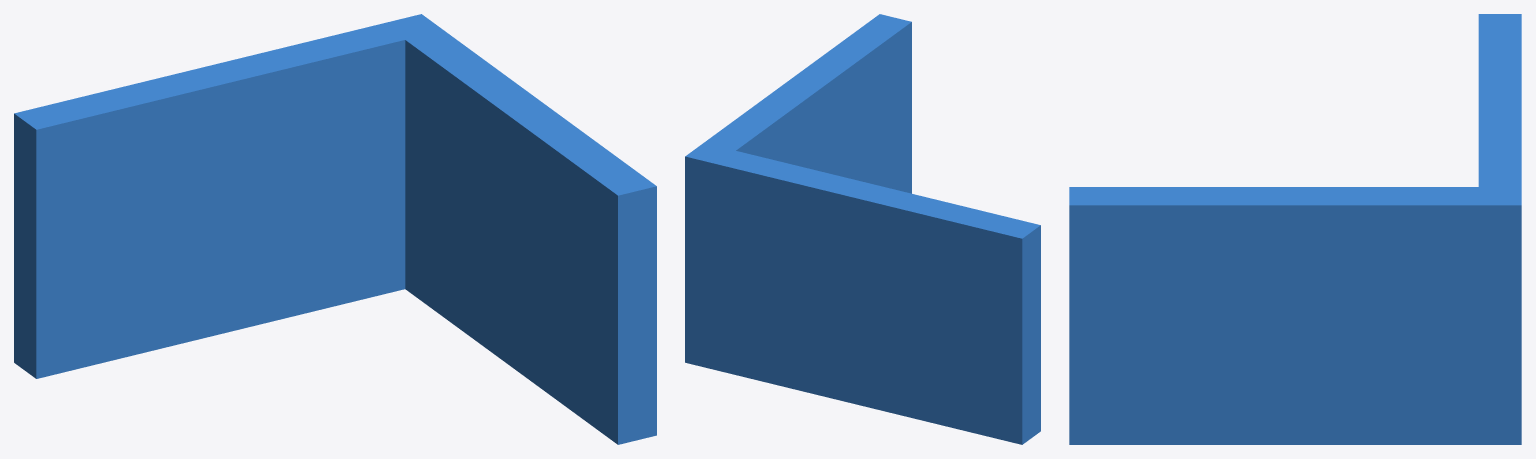
Rendered from Collision_Balcony_Cross_Corner.fbx.
3 views of the same model, side by side, from view 1: azimuth 30°, elevation 25°; view 2: azimuth 150°, elevation 25°; view 3: azimuth 270°, elevation 25° (orthographic). The views are drawn at different scales.
Parts seen in each view (by area): view 1: UCX_Balcony_Cross_Corner_01; view 2: UCX_Balcony_Cross_Corner_01; view 3: UCX_Balcony_Cross_Corner_01.
Part boxes in pixels (x1,y1,x2,y2): UCX_Balcony_Cross_Corner_01: (14,14,656,444); UCX_Balcony_Cross_Corner_01: (685,14,1040,444); UCX_Balcony_Cross_Corner_01: (1069,14,1521,444).
Bounding box in the file's own units: 210 × 123 × 210.
